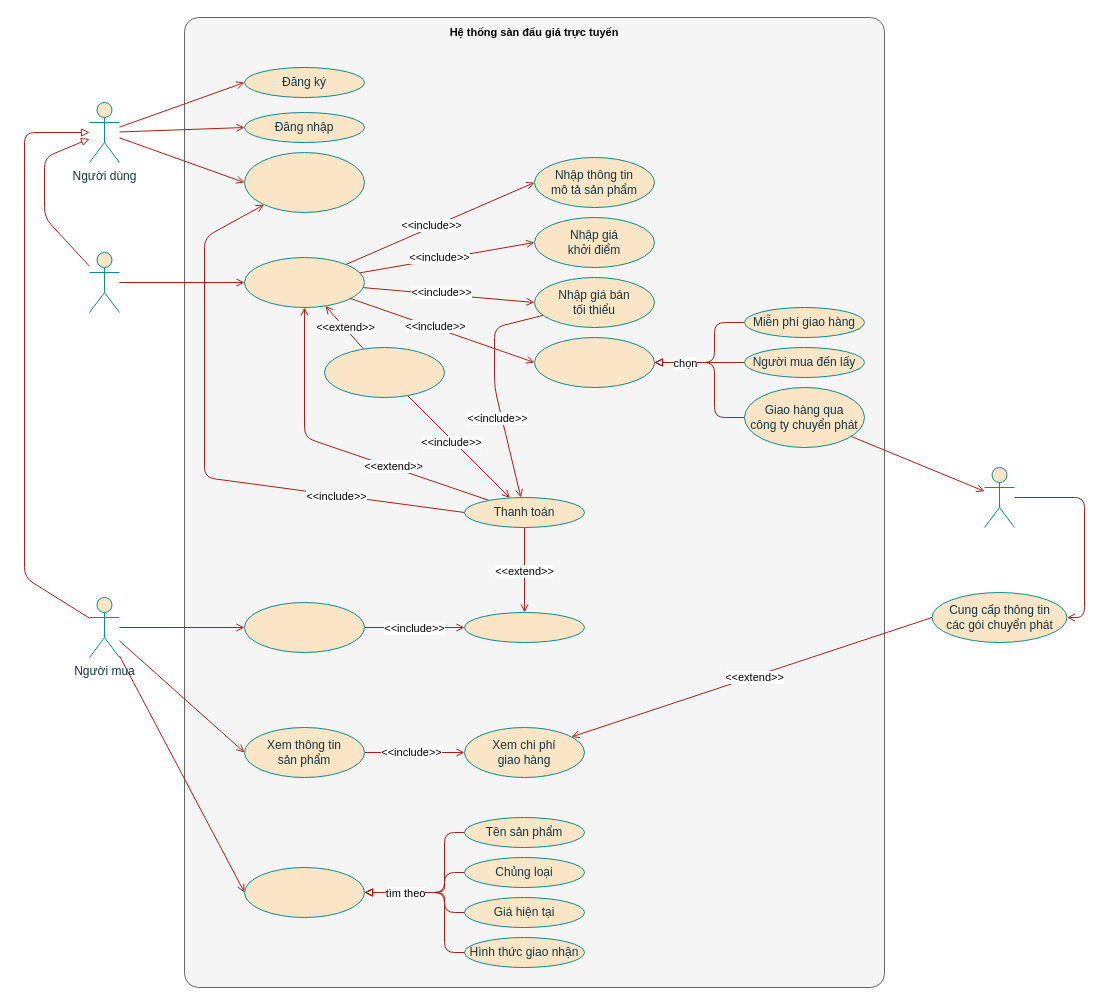
Some shapes in this 1110 by 1005 pixel diagram are drawn without their labels. Each missing label, with the box of its shape:
Chọn phương thức vận chuyển: (534, 336, 654, 388)
Hệ thống tính phí của công ty chuyển phát: (984, 466, 1014, 528)
Kéo dài thời hạn đấu giá: (324, 346, 444, 398)
Người bán: (88, 252, 120, 312)
Phản hồi chất lượng giao dịch: (244, 152, 364, 212)
Ra giá: (464, 612, 584, 642)
Tham gia đấu giá: (244, 602, 364, 652)
Tìm kiếm sản phẩm: (244, 866, 364, 918)
Đăng sản phẩm: (244, 256, 364, 308)
